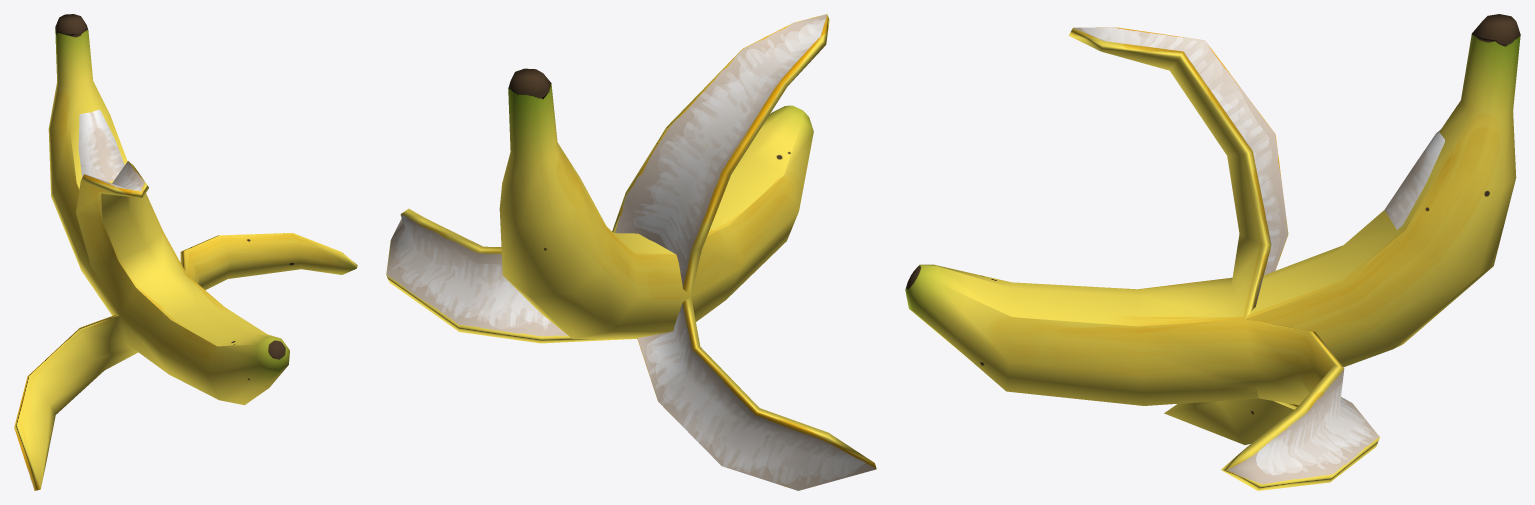
The model's file is banana.fbx.
The picture shows the model from 3 angles, left to right: view 1: azimuth 30°, elevation 25°; view 2: azimuth 150°, elevation 25°; view 3: azimuth 270°, elevation 25°; orthographic projection. The views are drawn at different scales.
Parts seen in each view (by area): view 1: Peeled_Peel, Banana_Base, Peeled_Banana_Guts_01; view 2: Peeled_Peel, Banana_Base; view 3: Peeled_Peel, Banana_Base, Peeled_Banana_Guts_01.
Boxes of the visible parts, <box> form: Peeled_Peel: <box>14,161,357,490</box>; Banana_Base: <box>48,14,289,405</box>; Peeled_Banana_Guts_01: <box>78,109,124,181</box>; Peeled_Peel: <box>386,14,876,490</box>; Banana_Base: <box>499,68,813,338</box>; Peeled_Peel: <box>908,27,1379,490</box>; Banana_Base: <box>905,14,1520,405</box>; Peeled_Banana_Guts_01: <box>1384,129,1444,229</box>.
Bounding box in the file's own units: 9.68 × 9.56 × 10.58.
1 material, 1 textured.
